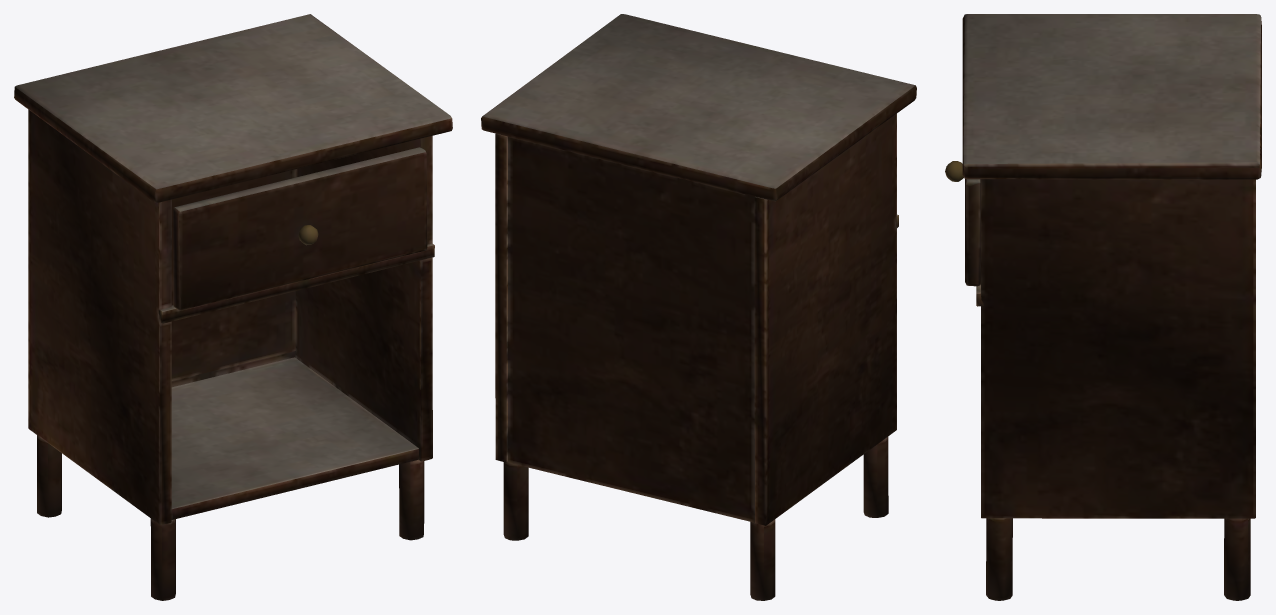
Rendered from nightstand-low.glb.
The picture shows the model from 3 angles, left to right: view 1: azimuth 30°, elevation 25°; view 2: azimuth 150°, elevation 25°; view 3: azimuth 270°, elevation 25°; orthographic projection. The views are drawn at different scales.
Parts seen in each view (by area): view 1: nightstand-low; view 2: nightstand-low; view 3: nightstand-low.
Part boxes in pixels (<box>): nightstand-low: <box>14,14,452,600</box>; nightstand-low: <box>481,14,916,600</box>; nightstand-low: <box>945,14,1261,600</box>.
Bounding box in the file's own units: 0.47 × 0.64 × 0.413.
Materials: 1 (1 with a texture image).
